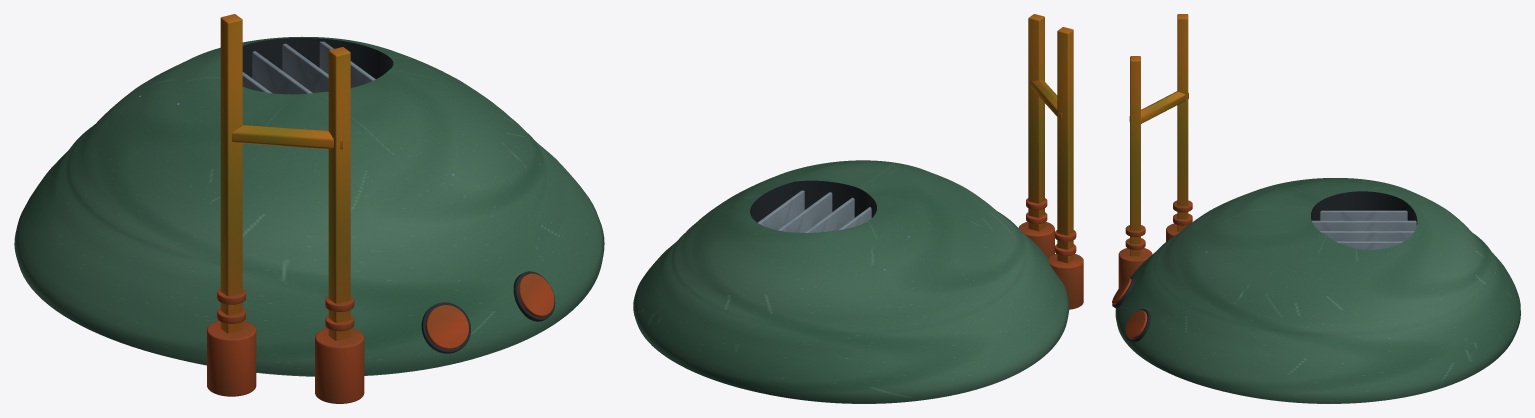
3 renders of one model, left to right at view 1: azimuth 30°, elevation 25°; view 2: azimuth 150°, elevation 25°; view 3: azimuth 270°, elevation 25°, orthographic. The views are drawn at different scales.
Parts seen in each view (by area): view 1: Launch Pads low green landing shell, Launch Pads tall brass rail 0, Launch Pads tall brass rail 1, Launch Pads copper base sleeve 1, Launch Pads copper base sleeve 0, Launch Pads brass crosspiece, Launch Pads copper front inset 0, Launch Pads recessed grey baffle 2, Launch Pads recessed grey baffle 1, Launch Pads copper front inset 1, Launch Pads recessed grey baffle 3, Launch Pads copper inset clear rim 0; view 2: Launch Pads low green landing shell, Launch Pads tall brass rail 0, Launch Pads tall brass rail 1, Launch Pads copper base sleeve 0, Launch Pads recessed grey baffle 2, Launch Pads recessed grey baffle 3, Launch Pads recessed grey baffle 1, Launch Pads copper base sleeve 1, Launch Pads brass crosspiece; view 3: Launch Pads low green landing shell, Launch Pads tall brass rail 0, Launch Pads tall brass rail 1, Launch Pads recessed grey baffle 1, Launch Pads recessed grey baffle 0, Launch Pads recessed grey baffle 2, Launch Pads copper base sleeve 1, Launch Pads brass crosspiece, Launch Pads copper front inset 1, Launch Pads recessed grey baffle 3.
Boxes of the visible parts, bbox=[...] form: Launch Pads low green landing shell: bbox=[14, 36, 604, 376]; Launch Pads tall brass rail 0: bbox=[220, 14, 242, 333]; Launch Pads tall brass rail 1: bbox=[328, 47, 350, 340]; Launch Pads copper base sleeve 1: bbox=[315, 328, 364, 403]; Launch Pads copper base sleeve 0: bbox=[207, 320, 256, 396]; Launch Pads brass crosspiece: bbox=[232, 125, 342, 149]; Launch Pads copper front inset 0: bbox=[425, 305, 468, 349]; Launch Pads recessed grey baffle 2: bbox=[282, 43, 328, 92]; Launch Pads recessed grey baffle 1: bbox=[252, 51, 312, 94]; Launch Pads copper front inset 1: bbox=[518, 273, 554, 317]; Launch Pads recessed grey baffle 3: bbox=[319, 41, 375, 87]; Launch Pads copper inset clear rim 0: bbox=[421, 302, 470, 353]; Launch Pads low green landing shell: bbox=[633, 160, 1069, 403]; Launch Pads tall brass rail 0: bbox=[1057, 27, 1073, 263]; Launch Pads tall brass rail 1: bbox=[1028, 14, 1044, 231]; Launch Pads copper base sleeve 0: bbox=[1047, 254, 1083, 309]; Launch Pads recessed grey baffle 2: bbox=[777, 192, 832, 232]; Launch Pads recessed grey baffle 3: bbox=[757, 190, 804, 229]; Launch Pads recessed grey baffle 1: bbox=[804, 197, 854, 232]; Launch Pads copper base sleeve 1: bbox=[1018, 222, 1054, 257]; Launch Pads brass crosspiece: bbox=[1031, 80, 1061, 120]; Launch Pads low green landing shell: bbox=[1115, 178, 1520, 403]; Launch Pads tall brass rail 0: bbox=[1177, 14, 1188, 231]; Launch Pads tall brass rail 1: bbox=[1130, 56, 1140, 256]; Launch Pads recessed grey baffle 1: bbox=[1312, 220, 1416, 230]; Launch Pads recessed grey baffle 0: bbox=[1320, 210, 1407, 220]; Launch Pads recessed grey baffle 2: bbox=[1319, 231, 1414, 241]; Launch Pads copper base sleeve 1: bbox=[1118, 248, 1152, 288]; Launch Pads brass crosspiece: bbox=[1129, 91, 1188, 123]; Launch Pads copper front inset 1: bbox=[1125, 310, 1147, 339]; Launch Pads recessed grey baffle 3: bbox=[1336, 241, 1403, 249].
Size of the model in its own units: 1.67 by 1.16 by 1.69.
5 materials, 4 textured.
